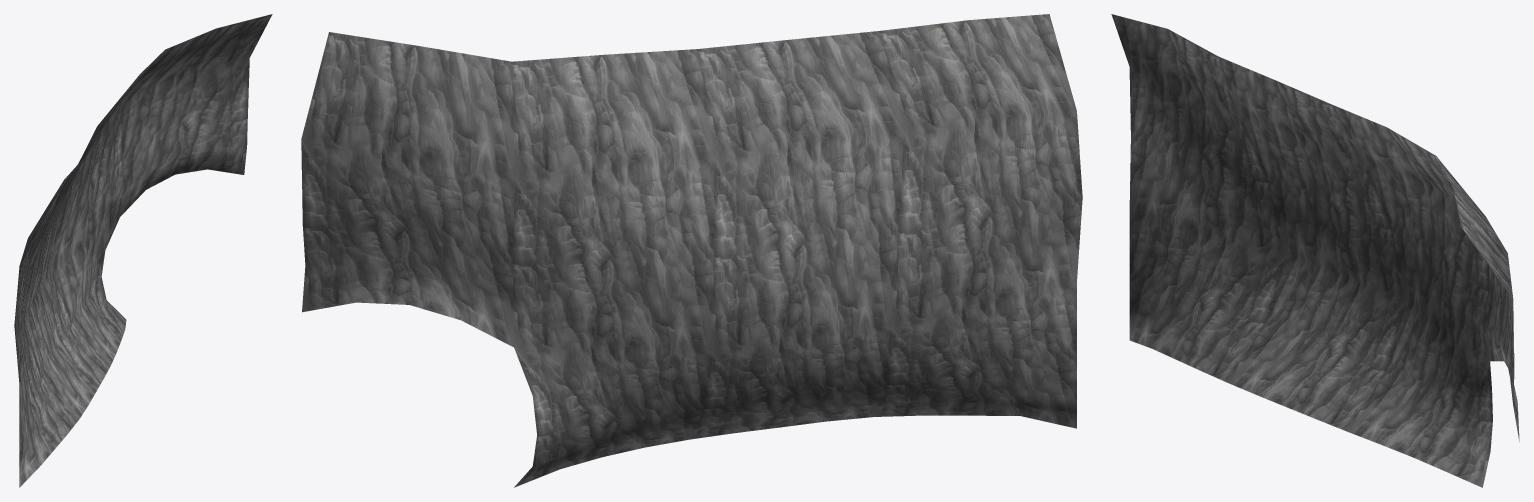
File: SWORDLIGHT20_PS-AREA04_22.fbx
The picture shows the model from 3 angles, left to right: view 1: azimuth 30°, elevation 25°; view 2: azimuth 150°, elevation 25°; view 3: azimuth 270°, elevation 25°; orthographic projection. The views are drawn at different scales.
Parts seen in each view (by area): view 1: SWORDLIGHT20_PS-AREA04_22; view 2: SWORDLIGHT20_PS-AREA04_22; view 3: SWORDLIGHT20_PS-AREA04_22.
Part boxes in pixels (x1,y1,x2,y2): SWORDLIGHT20_PS-AREA04_22: [14, 14, 272, 487]; SWORDLIGHT20_PS-AREA04_22: [301, 14, 1082, 487]; SWORDLIGHT20_PS-AREA04_22: [1111, 14, 1519, 487].
Size of the model in its own units: 148400 by 102429 by 108473.
Materials: 1 (1 with a texture image).
